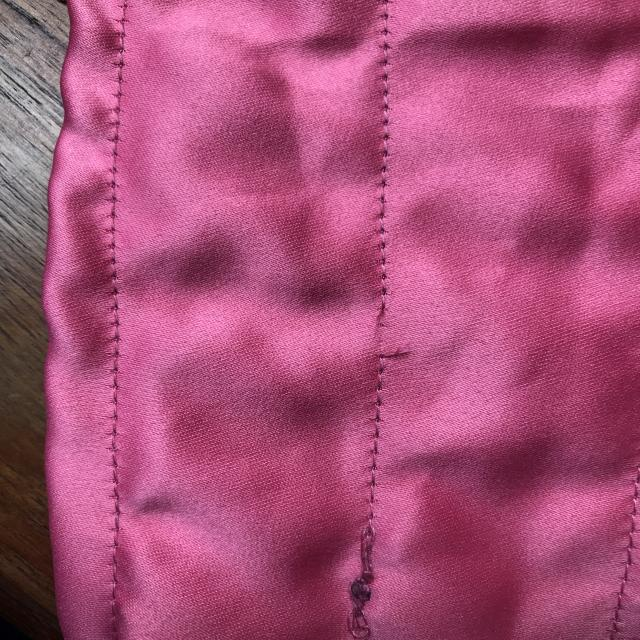broken: (347, 288, 424, 366)
